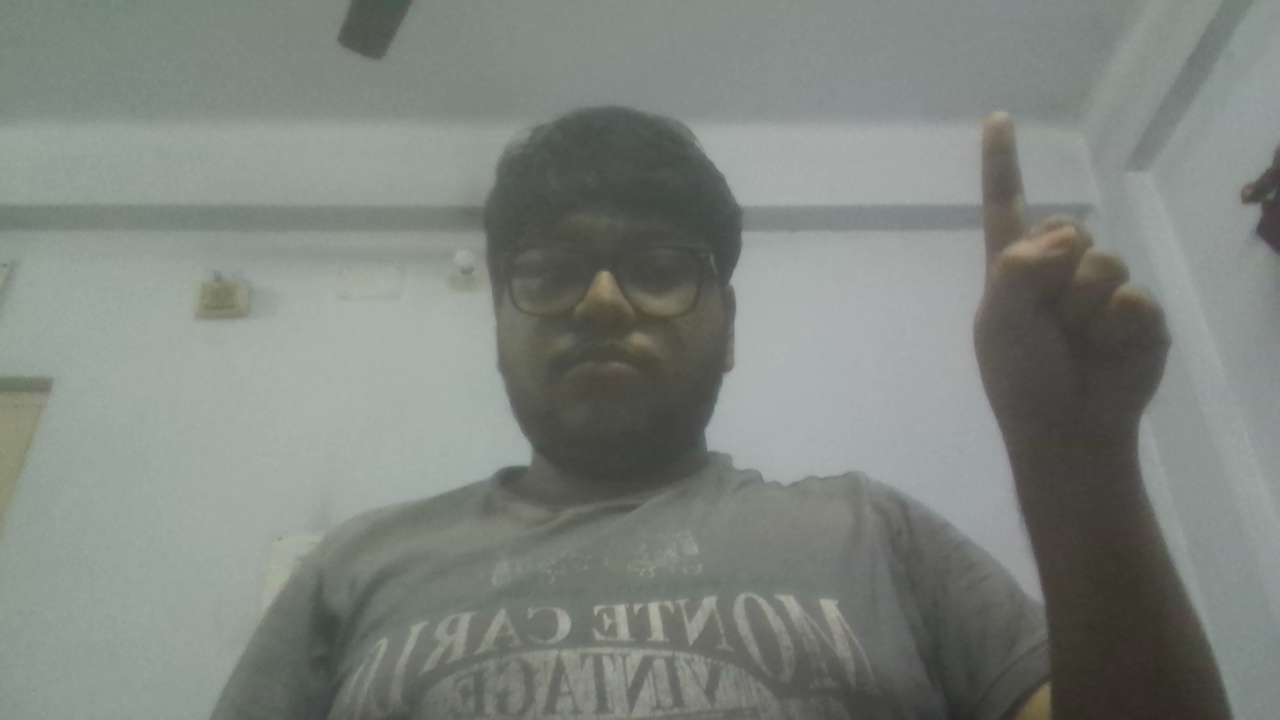Gesture1: (954, 100, 1184, 480)
